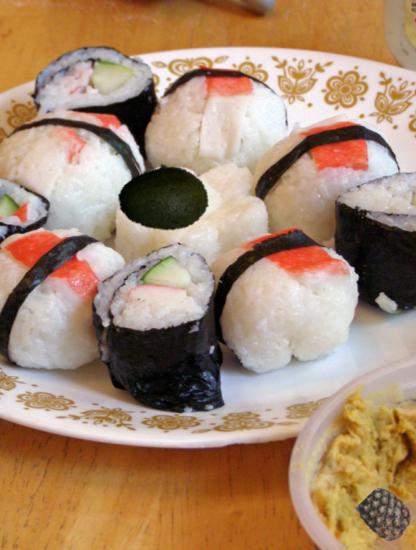Avocado: (118, 152, 210, 244)
Pineapple: (359, 489, 412, 542)
